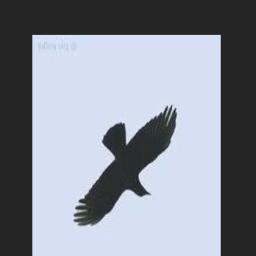Crow: (74, 105, 178, 226)
